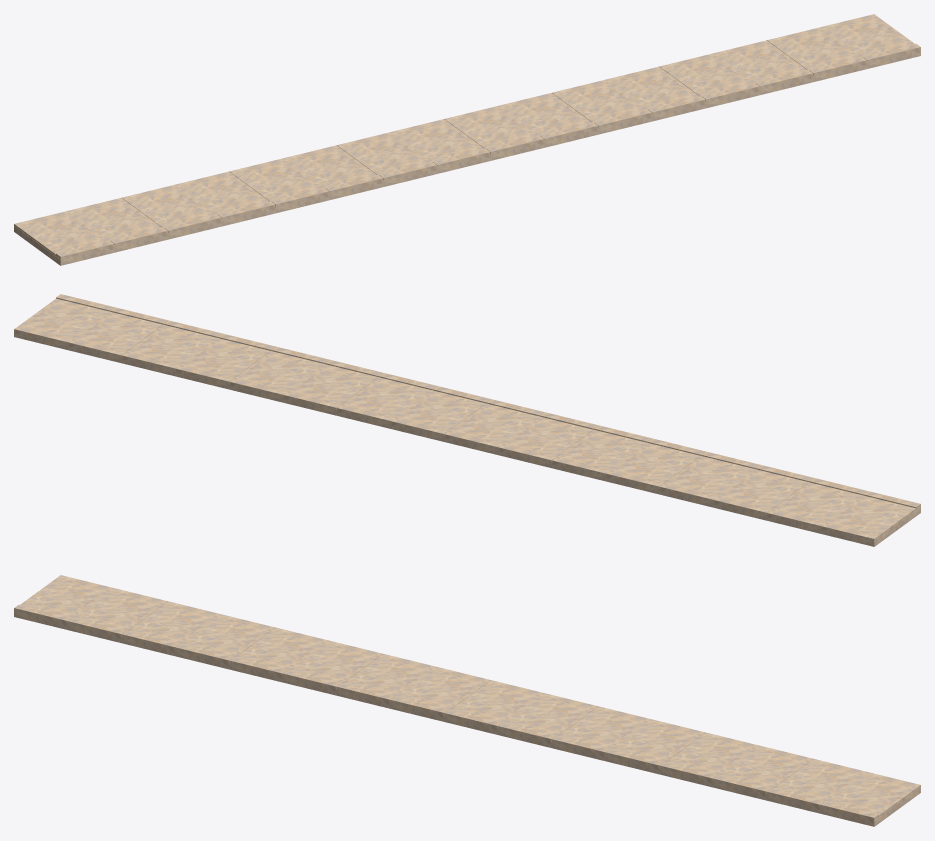
The model's file is pavement-straight-yaw90.glb.
3 renders of one model, top to bottom at view 1: azimuth 30°, elevation 25°; view 2: azimuth 150°, elevation 25°; view 3: azimuth 330°, elevation 25°, orthographic.
Visible parts, largest first — view 1: pavement-straight; view 2: pavement-straight; view 3: pavement-straight.
Boxes of the visible parts, box(x1,y1,x2,y2) form: pavement-straight: box(14, 14, 920, 265); pavement-straight: box(14, 294, 920, 546); pavement-straight: box(14, 575, 920, 826).
Size of the model in its own units: 16 by 0.16 by 1.5.
1 material, 1 textured.
